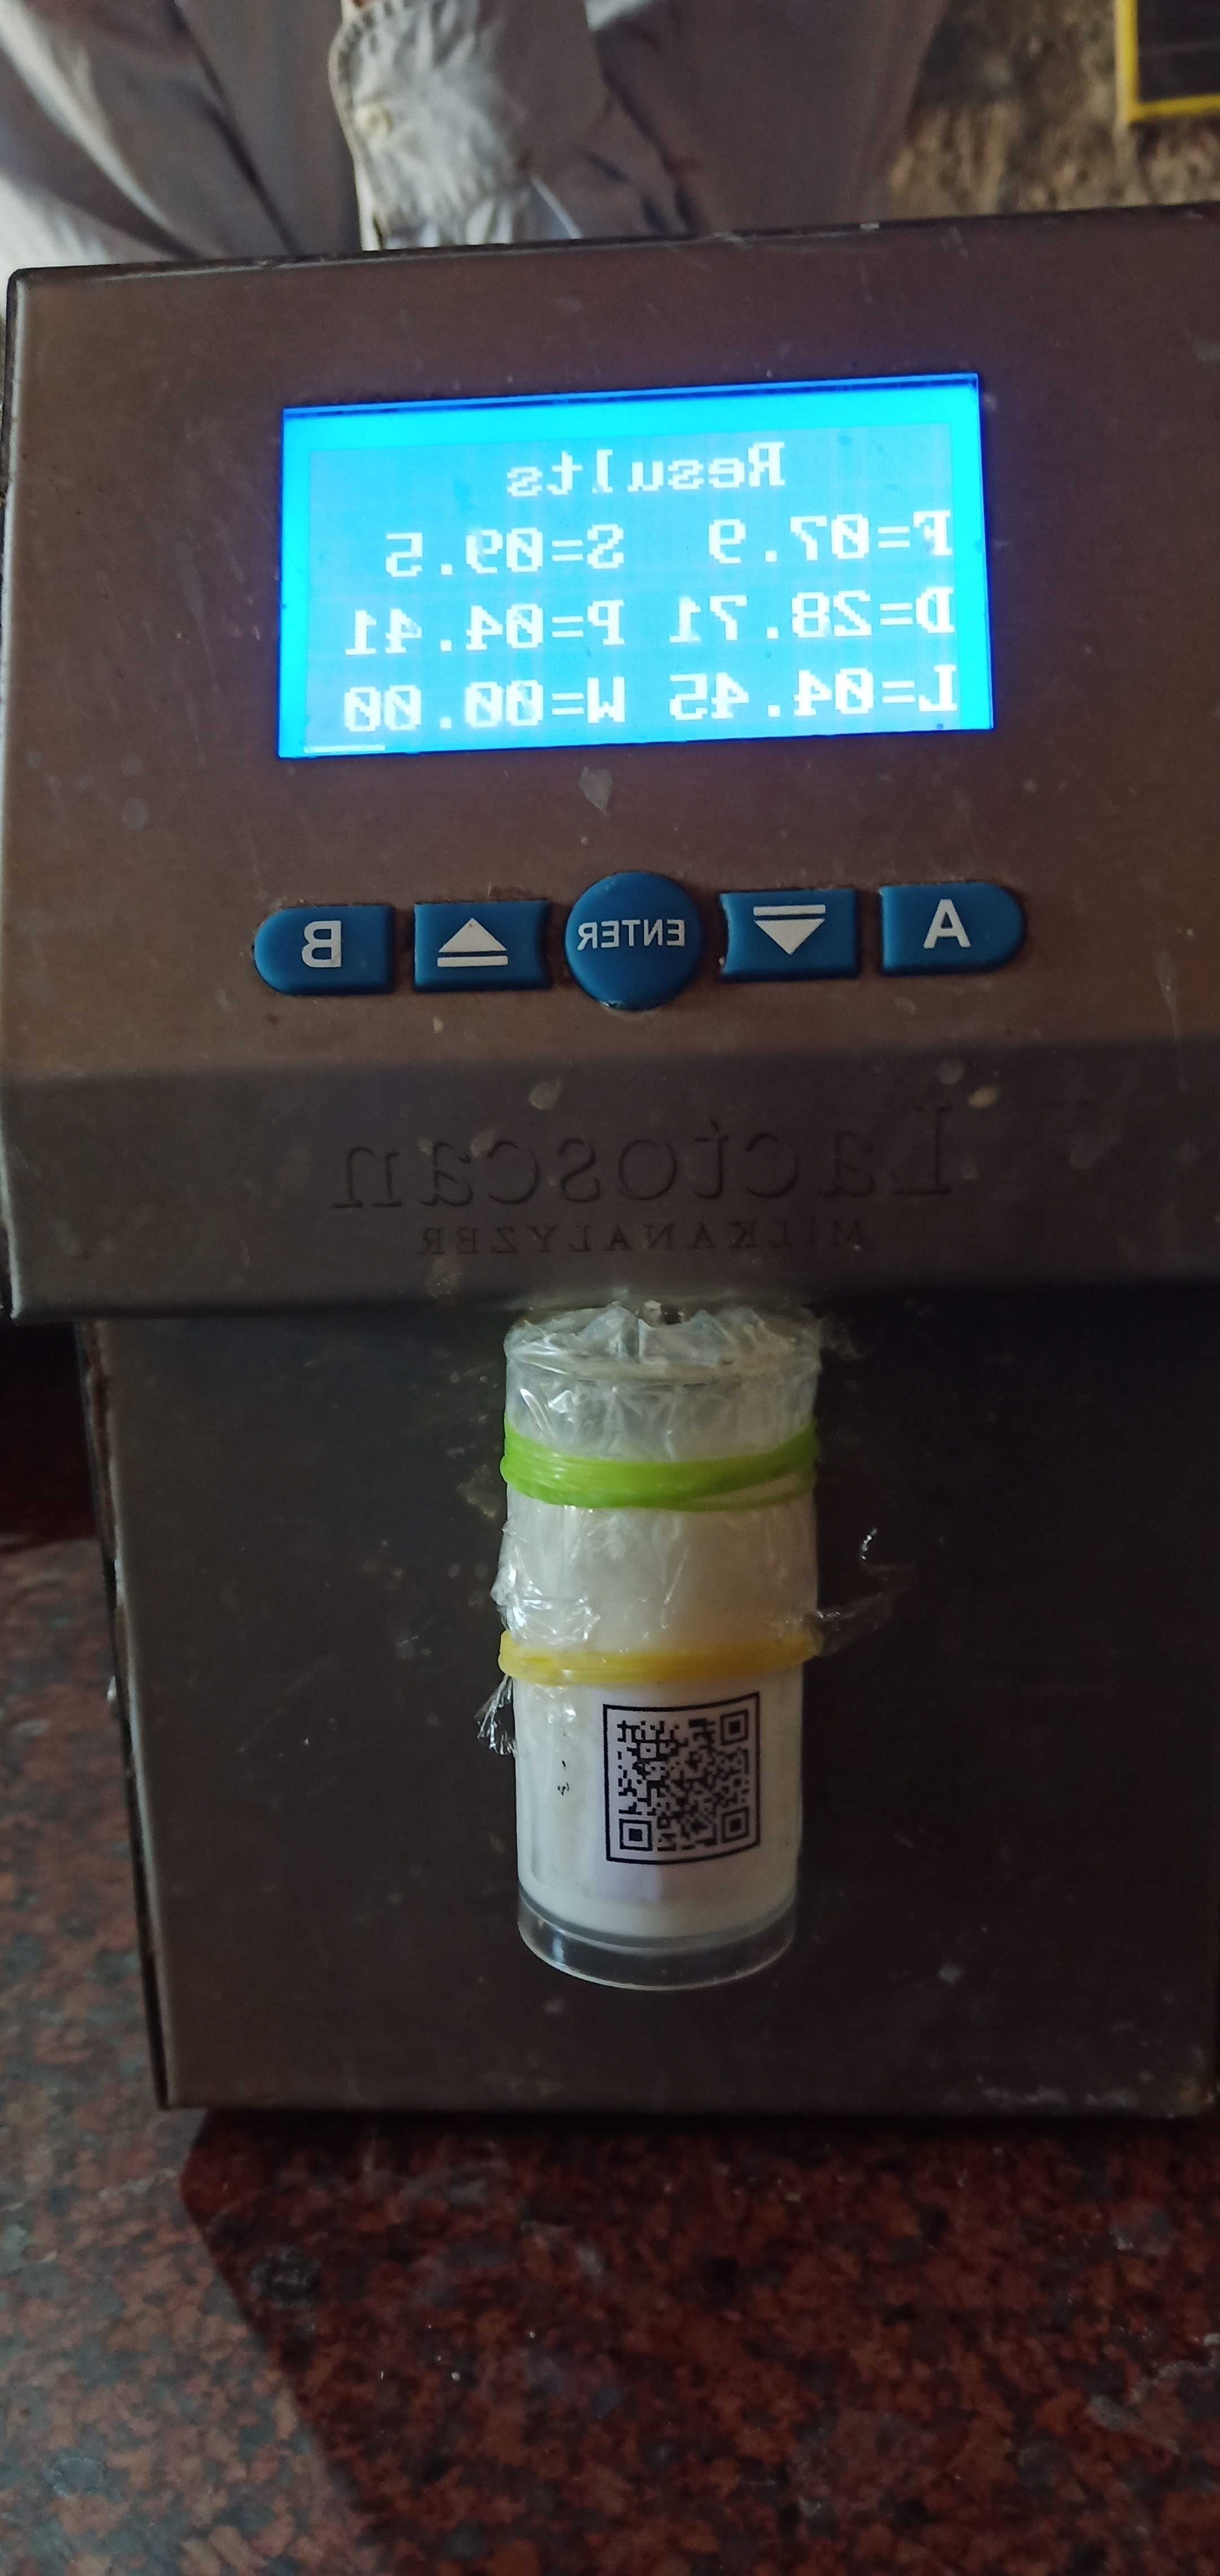lcd: (241, 302, 1064, 787)
qr: (604, 1704, 793, 1904)
